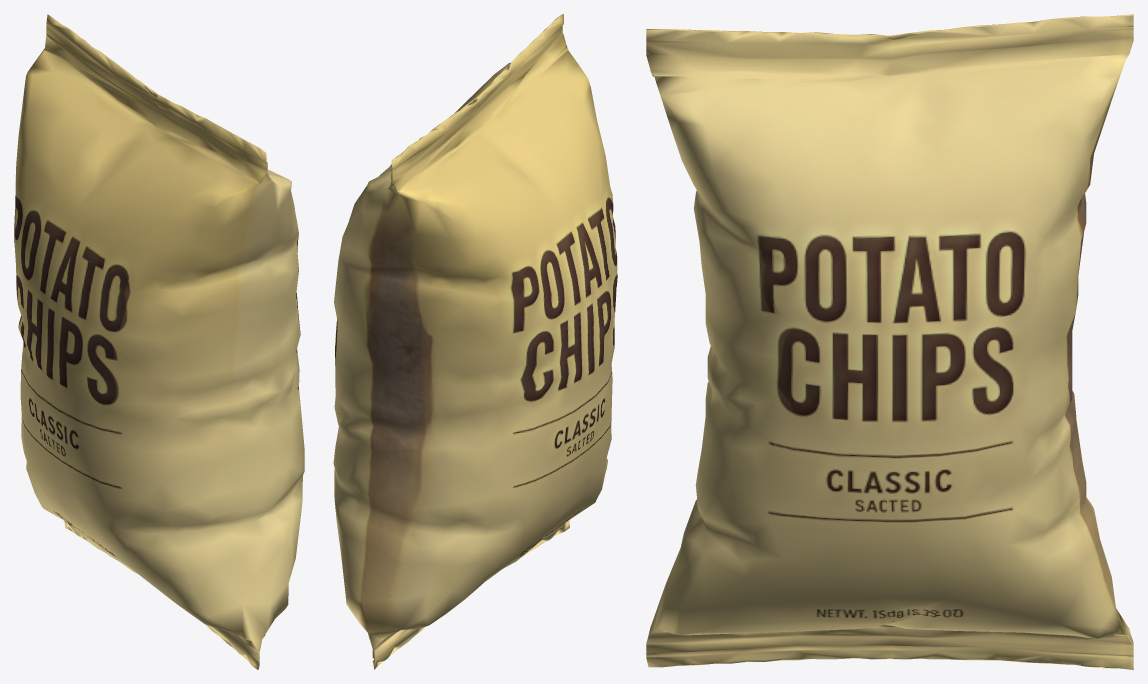
File: Papitas.fbx
The picture shows the model from 3 angles, left to right: view 1: azimuth 30°, elevation 25°; view 2: azimuth 150°, elevation 25°; view 3: azimuth 270°, elevation 25°; orthographic projection. The views are drawn at different scales.
Parts seen in each view (by area): view 1: meshes[0]; view 2: meshes[0]; view 3: meshes[0].
Boxes of the visible parts, left/top/right/bottom form: meshes[0]: left=14, top=14, right=304, bottom=669; meshes[0]: left=333, top=14, right=617, bottom=669; meshes[0]: left=646, top=14, right=1133, bottom=669.
Size of the model in its own units: 32.62 by 70.51 by 48.24.
